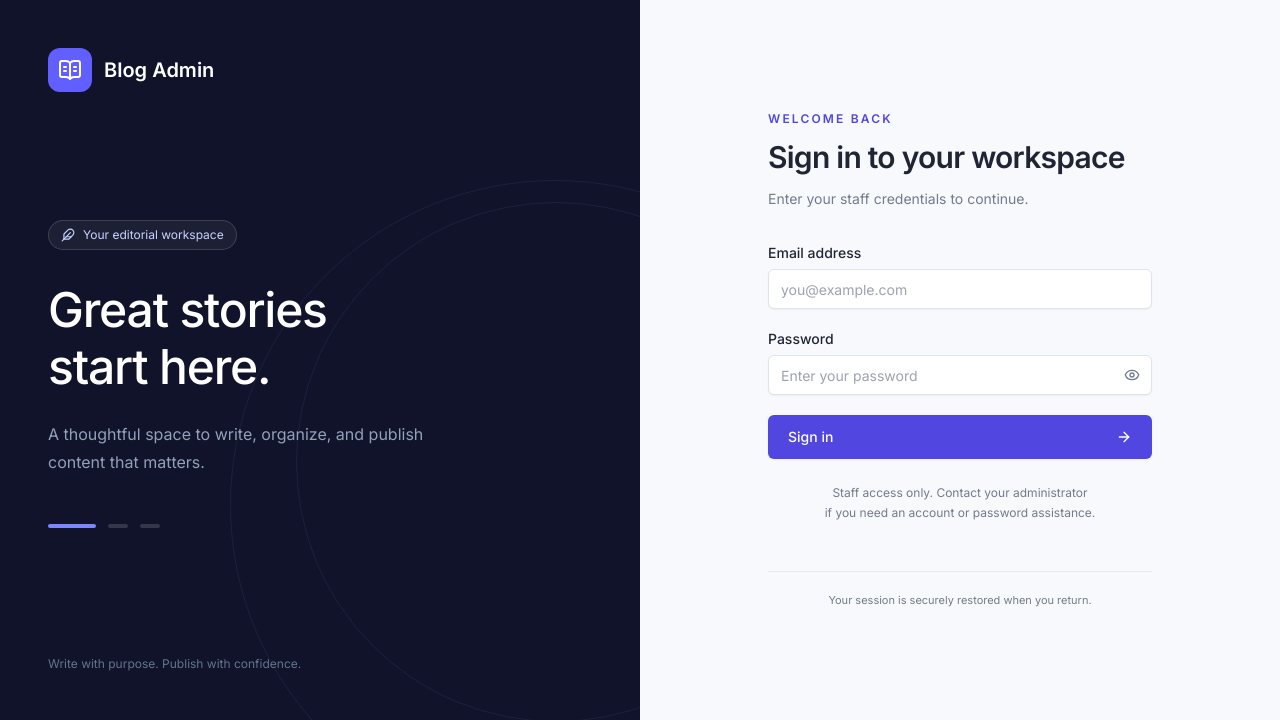
staff authentication › validates credentials before contacting the API
Click the button "Sign in" at (811, 437), box [768,415,1152,459]
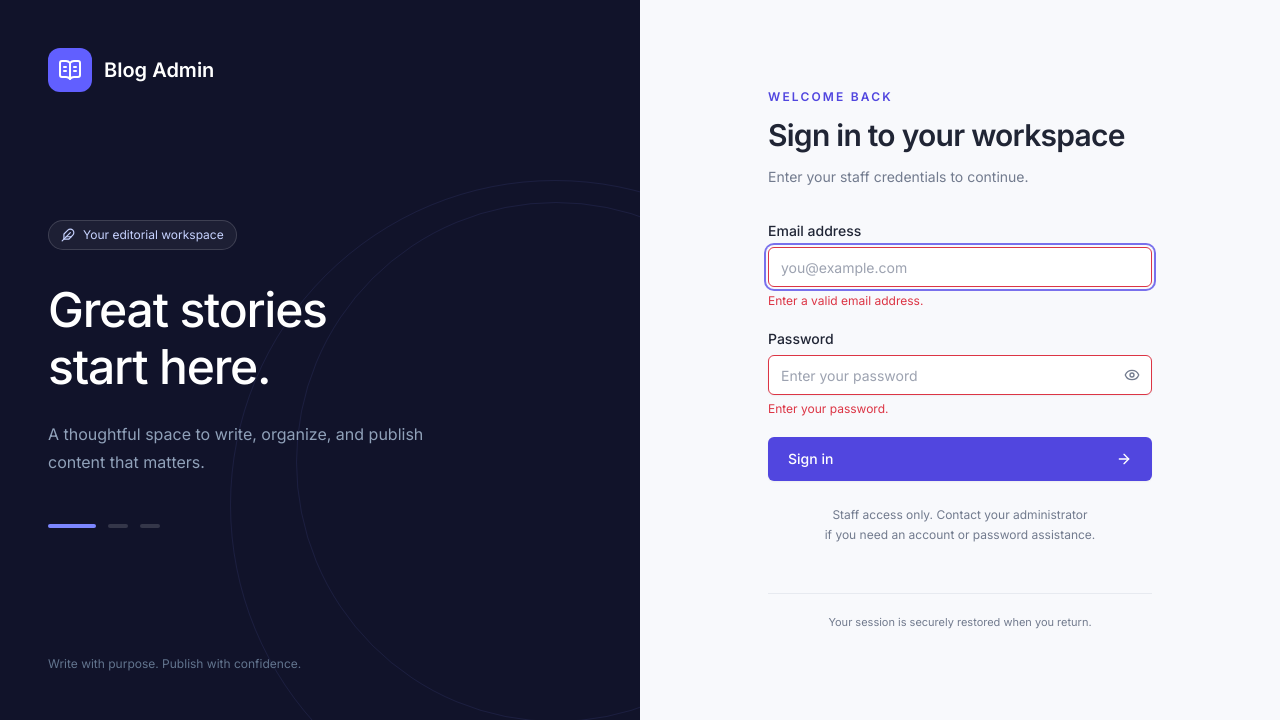
Expected: the text "Enter your password." is shown, [768,401,888,416]
